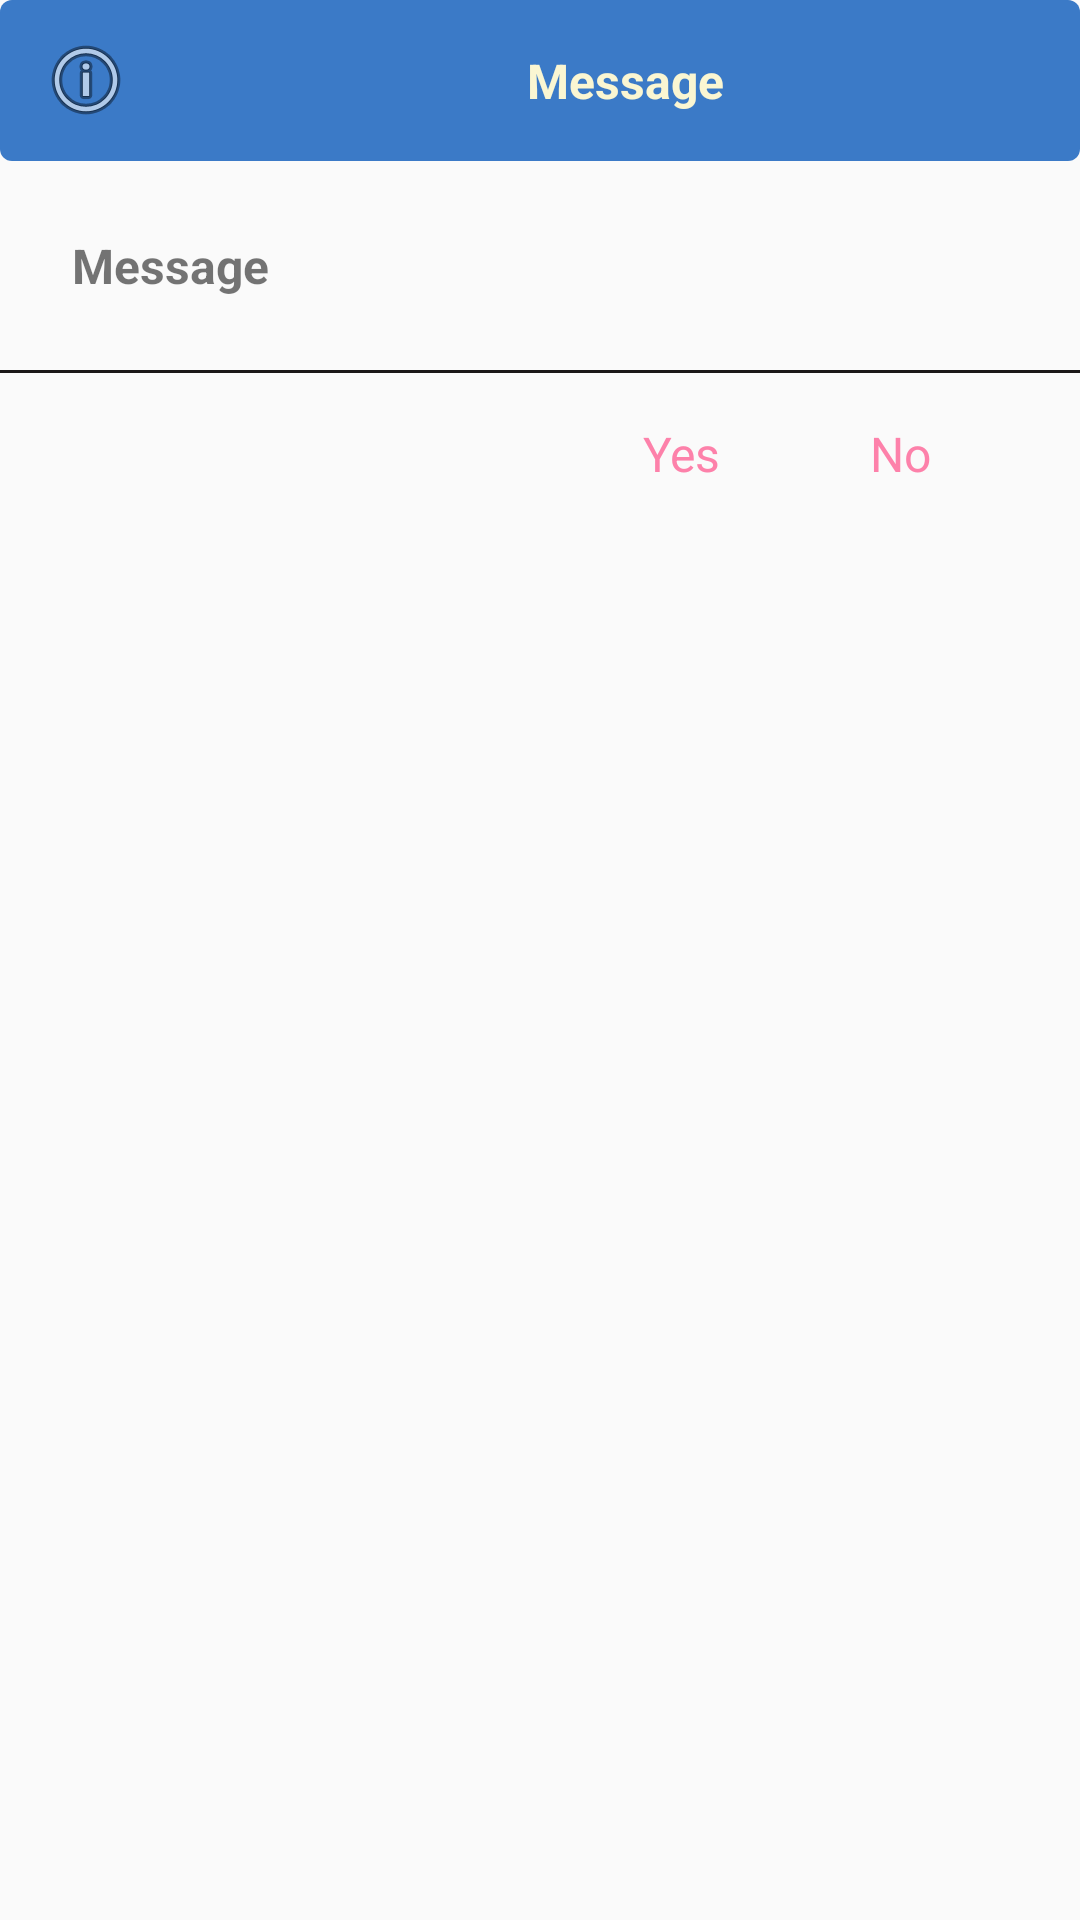

Named icons in this screenshot (1080w x 1920h) and their centers, point (x, y):
info details: point (86, 80)
